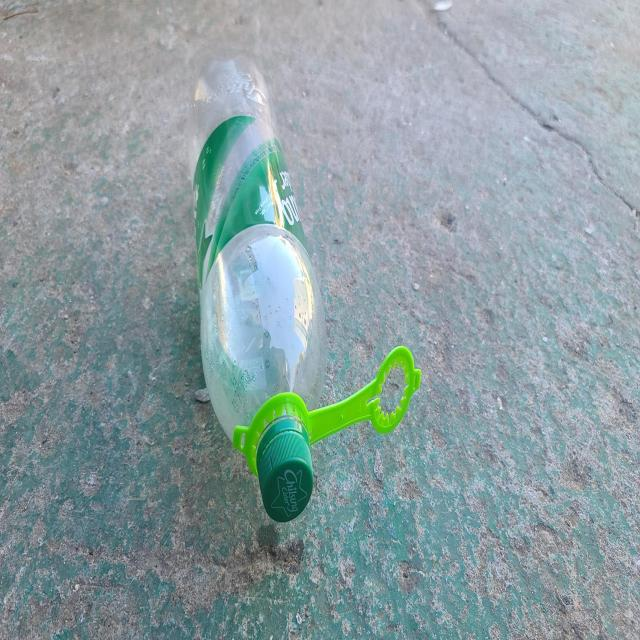plastic: (187, 56, 326, 522)
